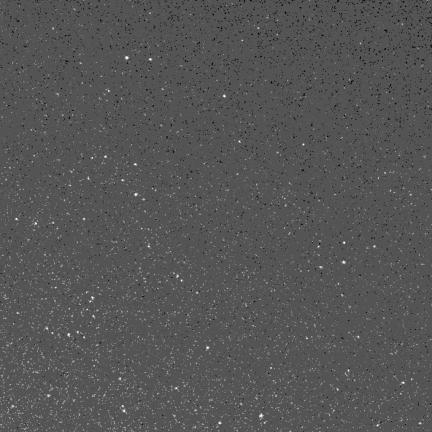blob: (342, 260, 346, 265), (125, 56, 129, 60), (149, 58, 153, 62), (223, 95, 227, 98)
